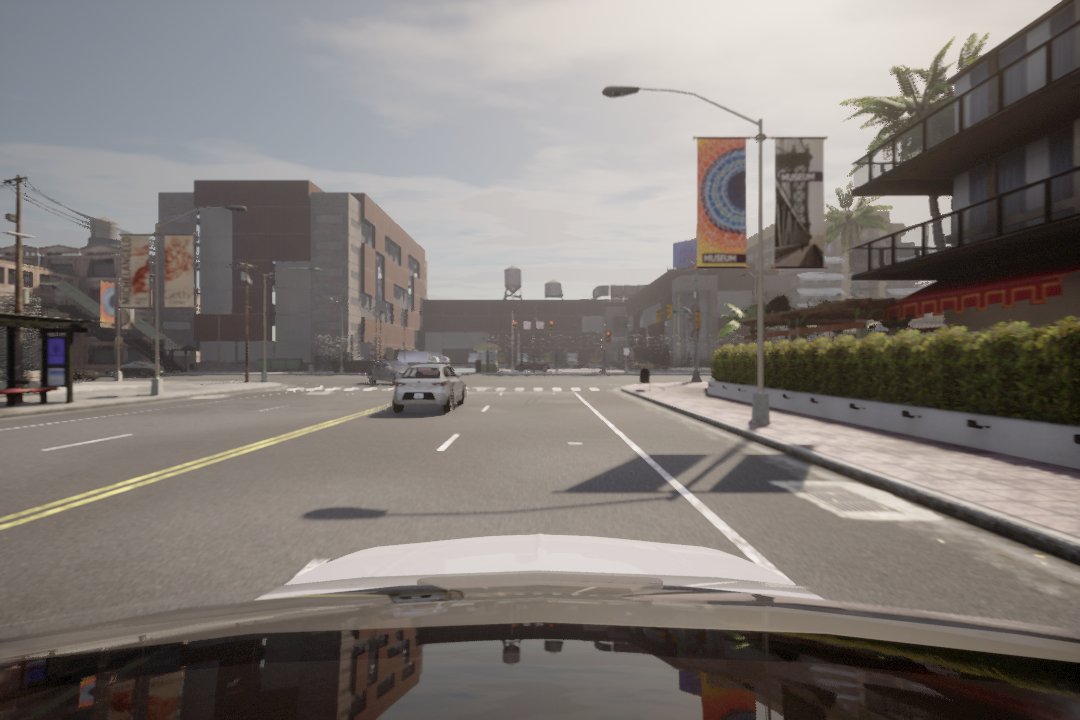walkside: (285, 381, 617, 399)
